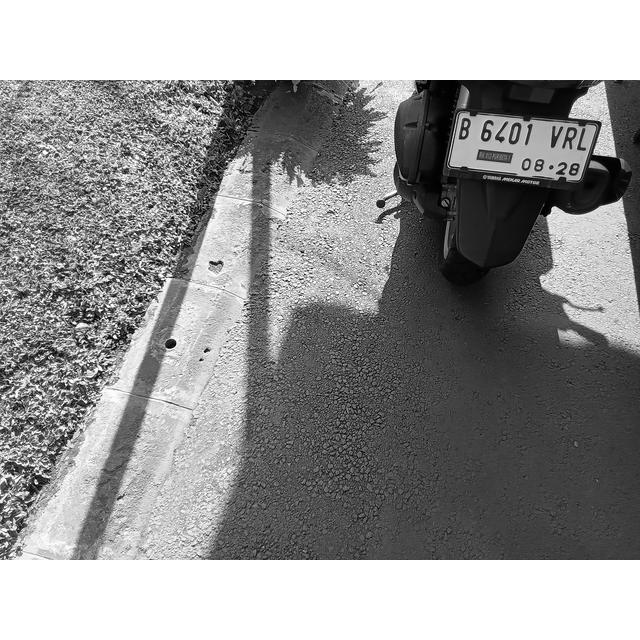license: (457, 118, 590, 180)
